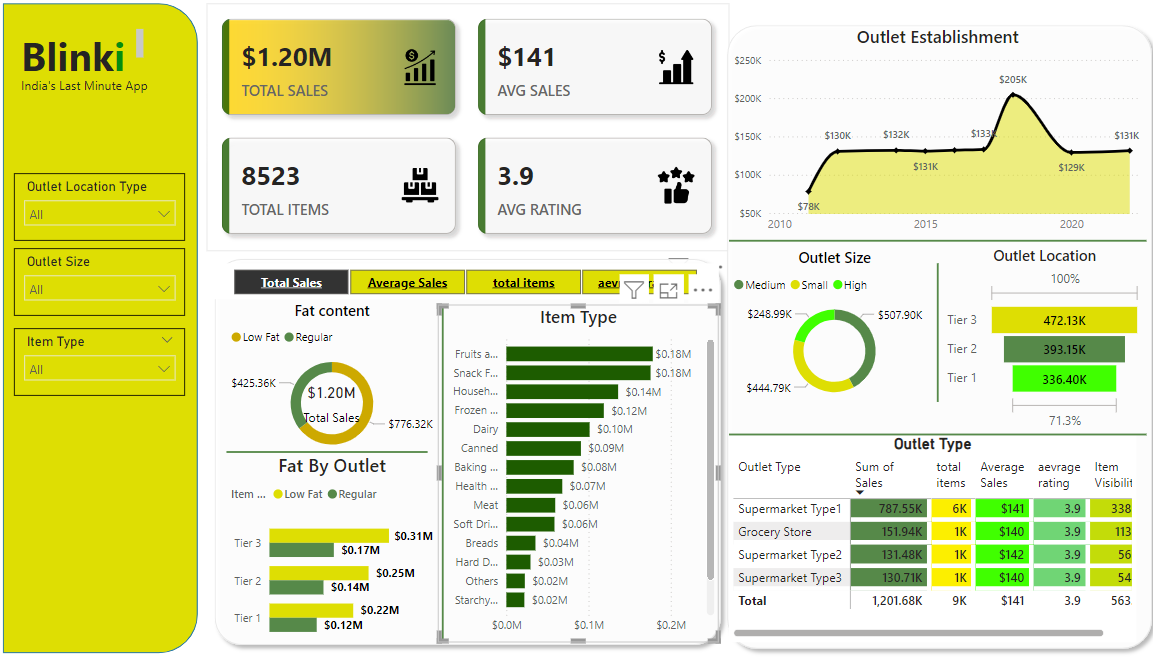

The page's visual inventory and layout, read from the dashboard file:
{"tool":"powerbi","page":{"name":"Page 1","canvas":[1271,750],"ordinal":0},"visuals":[{"type":"shape","box":[9.5,12.3,212.6,708.5],"z":0},{"type":"textbox","box":[24.5,87.2,166.2,34.1],"z":1000},{"type":"textbox","box":[24.5,35.4,143.1,69.5],"z":2000},{"type":"cardVisual","fields":{"Data":["BlinkIT Grocery Data.Total Sales","BlinkIT Grocery Data.Average Sales","BlinkIT Grocery Data.total items","BlinkIT Grocery Data.aevrage rating"]},"box":[231.6,12.3,569.6,269.8],"z":3000},{"type":"shape","box":[231.6,282.1,569.6,438.7],"z":4000},{"type":"donutChart","title":"Fat content","fields":{"Y":["BlinkIT Grocery Data.Total Sales"],"Category":["BlinkIT Grocery Data.Item Fat Content"]},"box":[253.4,335.2,230.3,177.1],"z":5000},{"type":"slicer","fields":{"Values":["Metrics.Metrics"]},"box":[235.7,295.7,554.6,39.5],"z":6000},{"type":"cardVisual","fields":{"Data":["BlinkIT Grocery Data.Total Sales"]},"box":[318.8,410.1,98.1,72.2],"z":7000},{"type":"clusteredBarChart","title":"Fat By Outlet","fields":{"Y":["BlinkIT Grocery Data.Total Sales"],"Category":["BlinkIT Grocery Data.Outlet Location Type"],"Series":["BlinkIT Grocery Data.Item Fat Content"]},"box":[253.4,501.4,230.3,219.4],"z":8000},{"type":"shape","box":[253.4,482.3,219.4,38.2],"z":9000},{"type":"shape","box":[483.7,340.6,10.9,367.9],"z":10000},{"type":"barChart","title":"Item Type","fields":{"Y":["BlinkIT Grocery Data.Total Sales"],"Category":["BlinkIT Grocery Data.Item Type"]},"box":[483.7,340.6,306.6,367.9],"z":11000},{"type":"shape","box":[790.3,27.3,481,697.6],"z":12000},{"type":"lineChart","title":"Outlet Establishment","fields":{"Y":["BlinkIT Grocery Data.Total Sales"],"Category":["BlinkIT Grocery Data.Outlet Establishment Year"]},"box":[801.2,35.4,455.1,235.7],"z":13000},{"type":"shape","box":[801.2,252.1,455.1,38.2],"z":14000},{"type":"donutChart","title":"Outlet Size","fields":{"Y":["BlinkIT Grocery Data.Total Sales"],"Category":["BlinkIT Grocery Data.Outlet Size"]},"box":[801.2,278,230.3,177.1],"z":15000},{"type":"shape","box":[1015.1,295.7,27.3,151.2],"z":16000},{"type":"funnel","title":"Outlet Location","fields":{"Y":["Sum(BlinkIT Grocery Data.Sales)"],"Category":["BlinkIT Grocery Data.Outlet Location Type"]},"box":[1034.2,275.2,222.1,207.1],"z":17000},{"type":"pivotTable","title":"Outlet Type","fields":{"Rows":["BlinkIT Grocery Data.Outlet Type"],"Values":["Sum(BlinkIT Grocery Data.Sales)","BlinkIT Grocery Data.total items","BlinkIT Grocery Data.Average Sales","BlinkIT Grocery Data.aevrage rating","Sum(BlinkIT Grocery Data.Item Visibility)"]},"box":[801.2,482.3,444.2,226.2],"z":18000},{"type":"shape","box":[801.2,463.3,455.1,38.2],"z":19000},{"type":"slicer","fields":{"Values":["BlinkIT Grocery Data.Outlet Location Type"]},"box":[21.8,197.6,186.7,73.6],"z":20000},{"type":"slicer","fields":{"Values":["BlinkIT Grocery Data.Outlet Size"]},"box":[21.8,279.3,186.7,73.6],"z":21000},{"type":"slicer","fields":{"Values":["BlinkIT Grocery Data.Item Type"]},"box":[21.8,366.5,186.7,73.6],"z":22000}]}

Visuals, with their boxes on the page's 1271x750 design canvas (x1, y1, x2, y2). These are canvas units, not pixel positions in the 1153x660 screenshot, which may show the page scaled, cropped or inside an application window:
shape: 10,12,222,721
textbox: 24,87,191,121
textbox: 24,35,168,105
cardVisual - BlinkIT Grocery Data.Total Sales x BlinkIT Grocery Data.Average Sales: 232,12,801,282
shape: 232,282,801,721
"Fat content" donutChart: 253,335,484,512
slicer - Metrics.Metrics: 236,296,790,335
cardVisual - BlinkIT Grocery Data.Total Sales: 319,410,417,482
"Fat By Outlet" clusteredBarChart: 253,501,484,721
shape: 253,482,473,520
shape: 484,341,495,708
"Item Type" barChart: 484,341,790,708
shape: 790,27,1271,725
"Outlet Establishment" lineChart: 801,35,1256,271
shape: 801,252,1256,290
"Outlet Size" donutChart: 801,278,1032,455
shape: 1015,296,1042,447
"Outlet Location" funnel: 1034,275,1256,482
"Outlet Type" pivotTable: 801,482,1245,708
shape: 801,463,1256,502
slicer - BlinkIT Grocery Data.Outlet Location Type: 22,198,208,271
slicer - BlinkIT Grocery Data.Outlet Size: 22,279,208,353
slicer - BlinkIT Grocery Data.Item Type: 22,366,208,440
